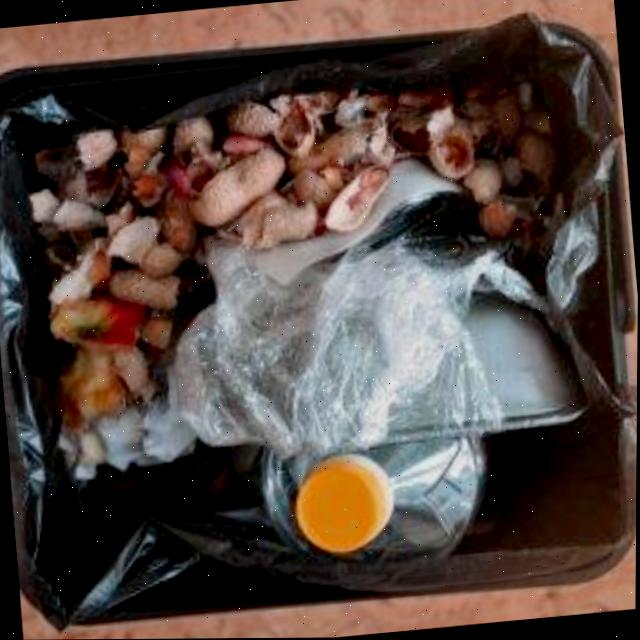Garbage: (29, 77, 585, 584)
contaminated_waste: (173, 231, 512, 471), (264, 341, 581, 566)
